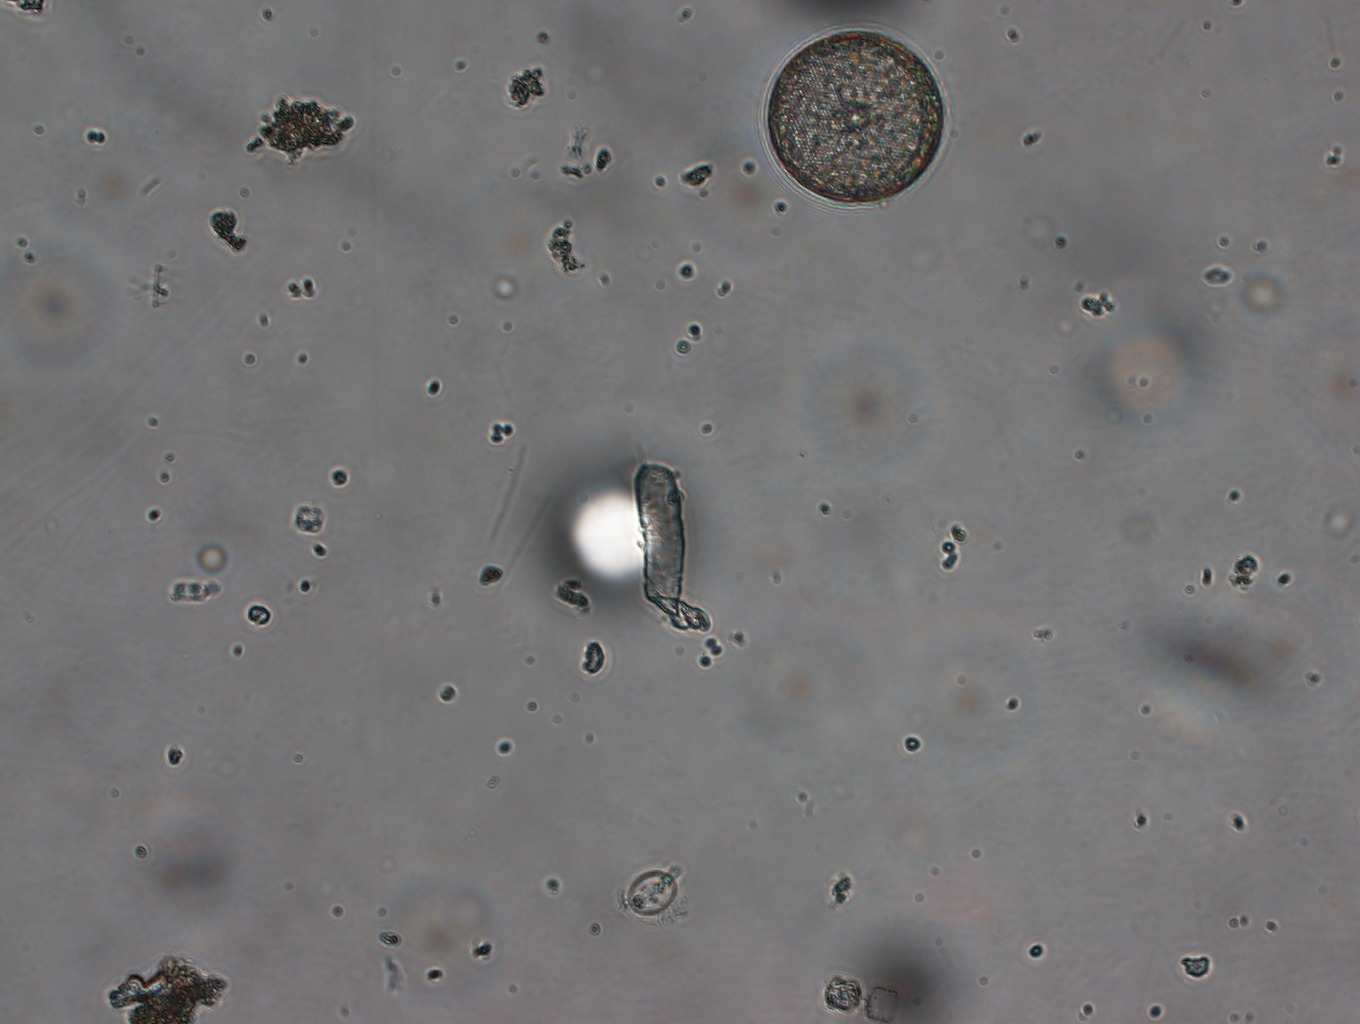coscinodiscus: (757, 25, 948, 205)
